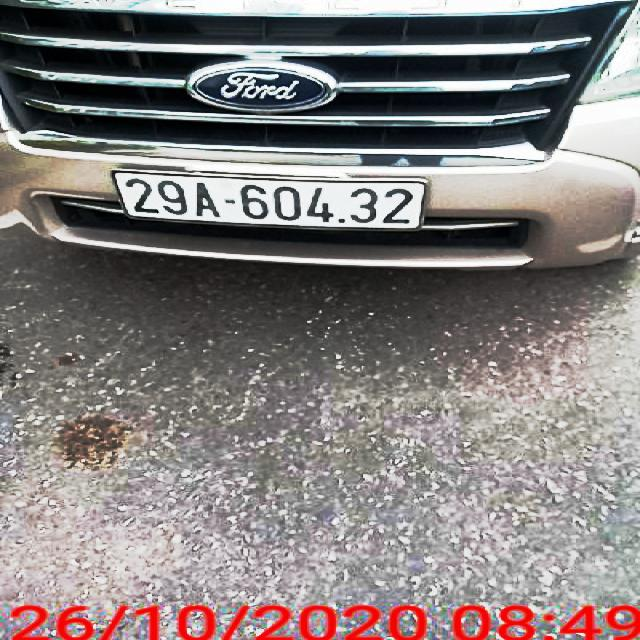license_plate: (114, 174, 432, 233)
